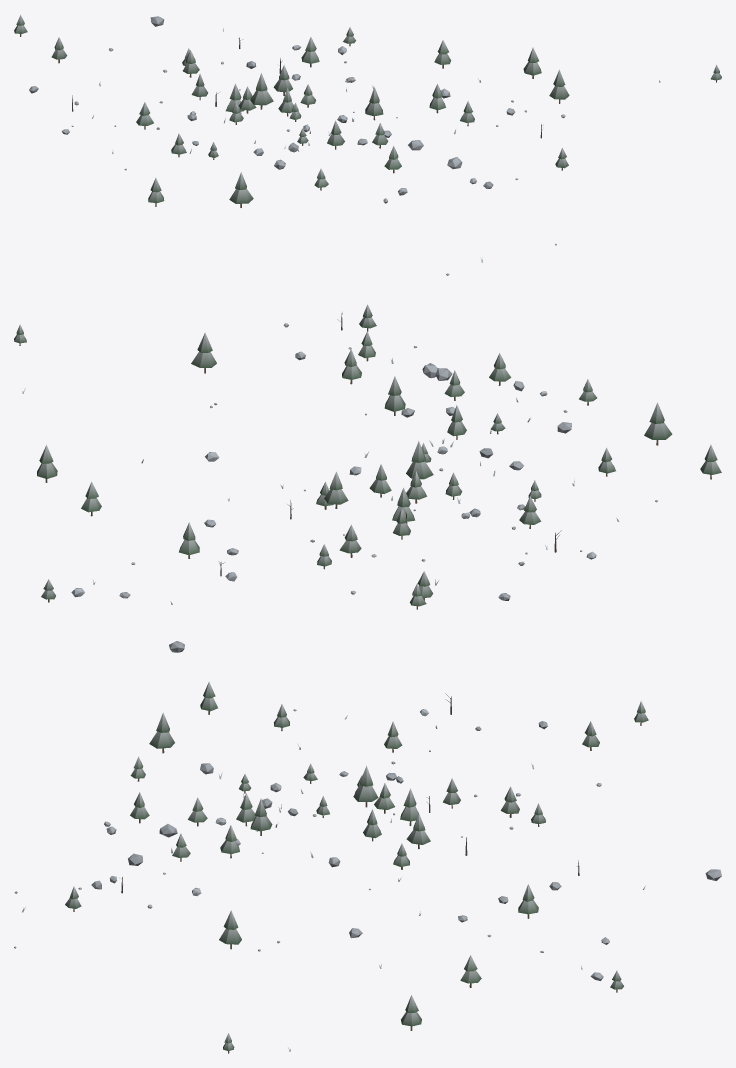
Rendered from frost_land_scatter_c13_12_lod1.glb.
3 views of the same model, one above another, from view 1: azimuth 30°, elevation 25°; view 2: azimuth 150°, elevation 25°; view 3: azimuth 270°, elevation 25° (orthographic). The views are drawn at different scales.
Visible parts, largest first — view 1: frost_land_scatter_c13_12_lod1; view 2: frost_land_scatter_c13_12_lod1; view 3: frost_land_scatter_c13_12_lod1.
Part boxes in pixels (x1,y1,x2,y2): frost_land_scatter_c13_12_lod1: [14, 14, 721, 275]; frost_land_scatter_c13_12_lod1: [14, 304, 721, 652]; frost_land_scatter_c13_12_lod1: [14, 682, 721, 1053].
Bounding box in the file's own units: 256 × 45.16 × 238.
